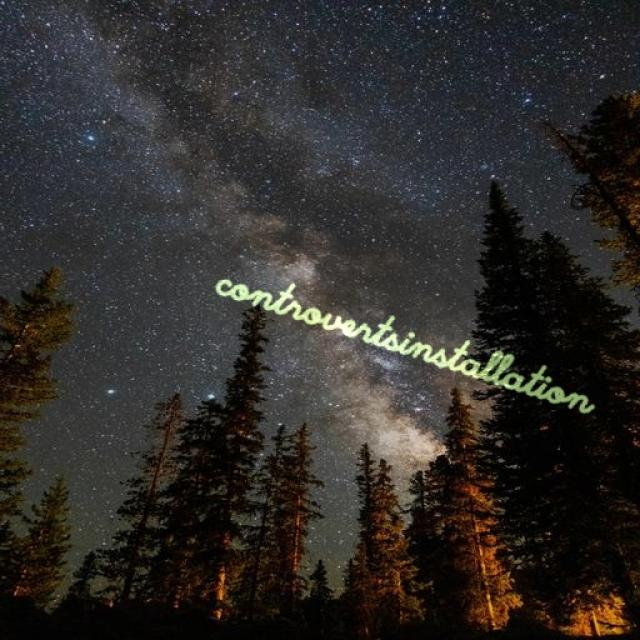watermark: (206, 259, 622, 421)
